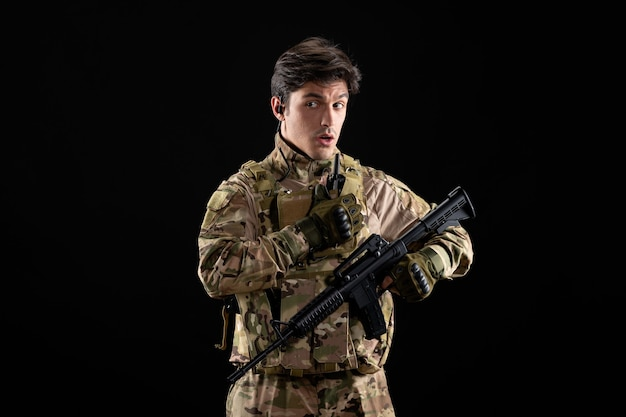gun: (226, 185, 477, 387)
